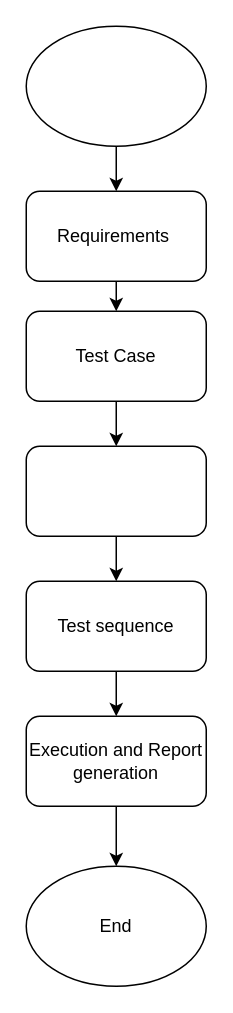
Some shapes in this 233 by 1013 pixel diagram are drawn without their labels. The shapes that lost their labels are listed below. From the top down, each one's centre as x and y in pixels, then its label:
At [115,85]: "Start".
At [115,490]: "Test Script".
